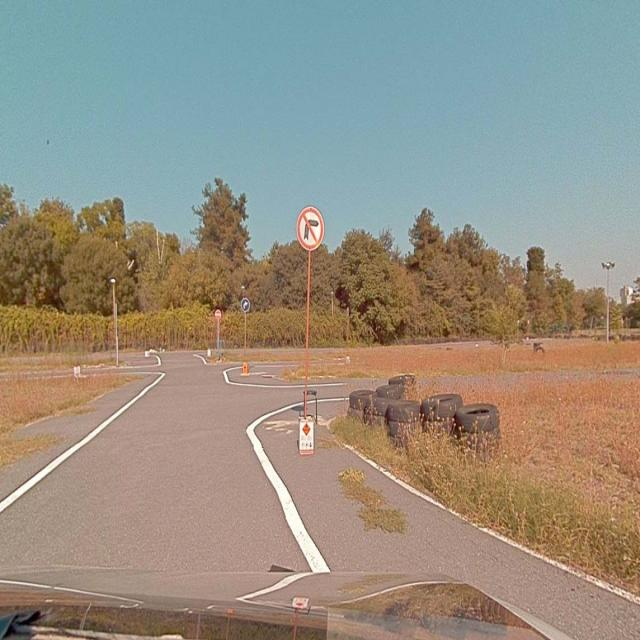girisyok: (215, 309, 221, 319)
sag: (242, 298, 250, 311)
sagadonulmez: (297, 207, 324, 250)
